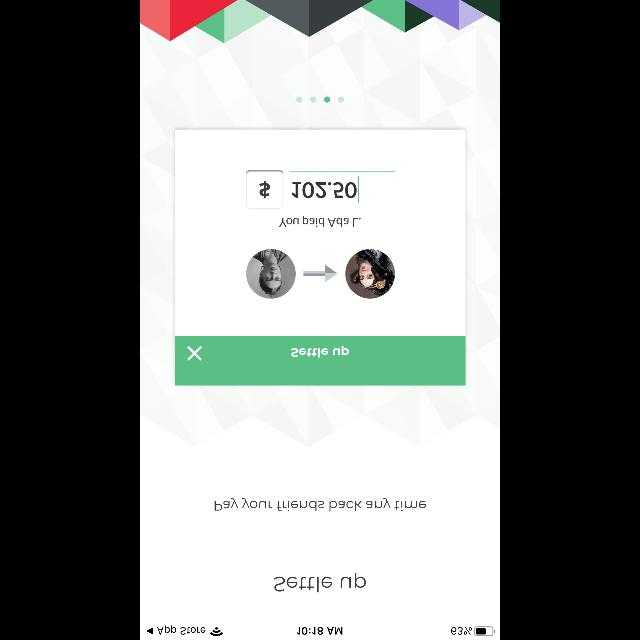image: (175, 130, 465, 386), (140, 1, 500, 44)
pageindicator: (296, 96, 344, 102)
text: (214, 498, 426, 512), (274, 574, 366, 592)
uppertaskbar: (140, 625, 500, 639)
